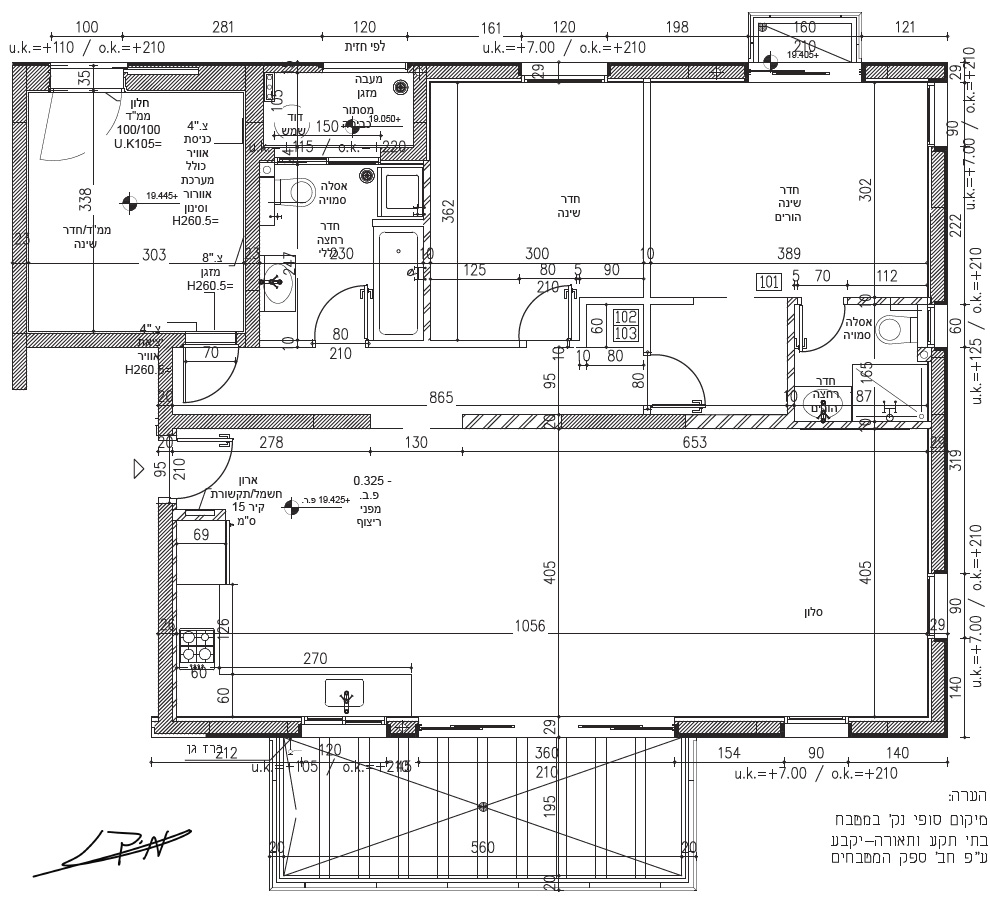door: (182, 435, 250, 503), (179, 346, 245, 407), (305, 277, 371, 338), (511, 276, 577, 337), (653, 350, 719, 411), (796, 305, 846, 357)
wall: (13, 64, 29, 389), (244, 64, 258, 347), (158, 503, 173, 733), (931, 350, 944, 570), (159, 415, 370, 428), (561, 414, 685, 430), (930, 151, 943, 299), (158, 722, 298, 733), (158, 333, 173, 434), (426, 66, 519, 80), (930, 642, 944, 732), (129, 77, 241, 88)
window: (299, 717, 388, 739), (924, 82, 948, 148), (926, 572, 949, 637), (783, 715, 848, 736), (925, 303, 947, 347), (323, 62, 406, 73)
